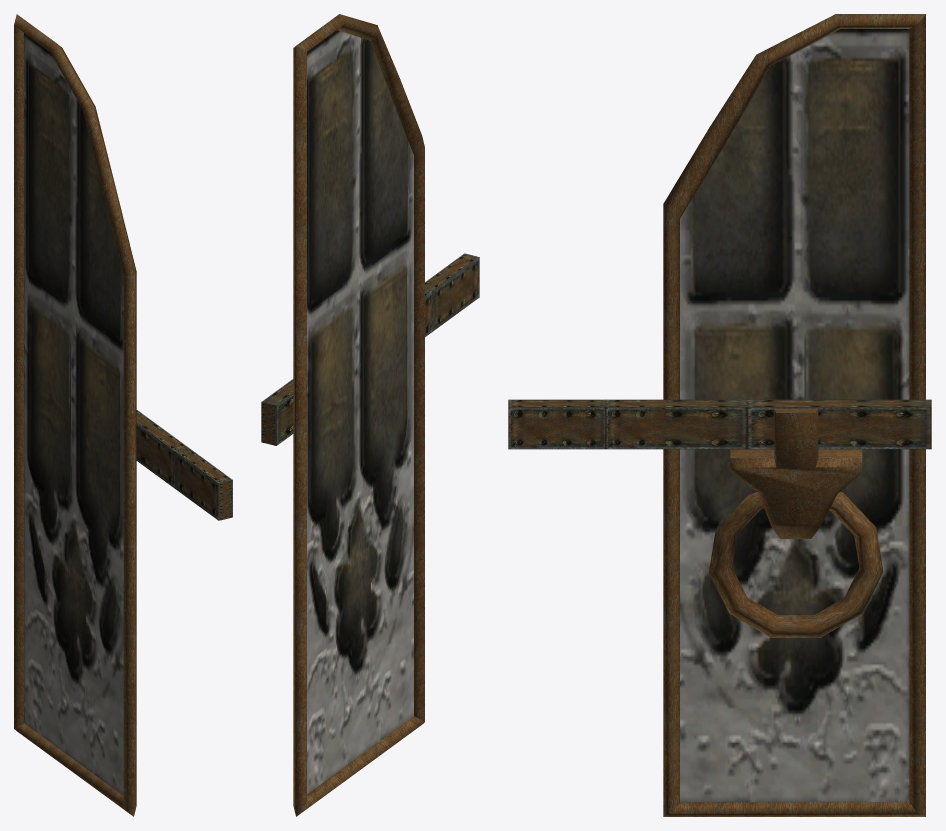
Rendered from ARKENSTON_DOOR_02.obj.
3 views of the same model, side by side, from view 1: azimuth 30°, elevation 25°; view 2: azimuth 150°, elevation 25°; view 3: azimuth 270°, elevation 25° (orthographic). The views are drawn at different scales.
Parts seen in each view (by area): view 1: kenstone_door02, enstone_latch01; view 2: kenstone_door02, enstone_latch01; view 3: kenstone_door02, enstone_latch01.
Part boxes in pixels (box(x1,y1,x2,y2)): kenstone_door02: box(14, 14, 136, 816); enstone_latch01: box(136, 410, 232, 520); kenstone_door02: box(293, 14, 424, 816); enstone_latch01: box(261, 253, 479, 445); kenstone_door02: box(663, 14, 925, 816); enstone_latch01: box(508, 399, 931, 449).
Bounding box in the file's own units: 75.68 × 1066 × 509.
